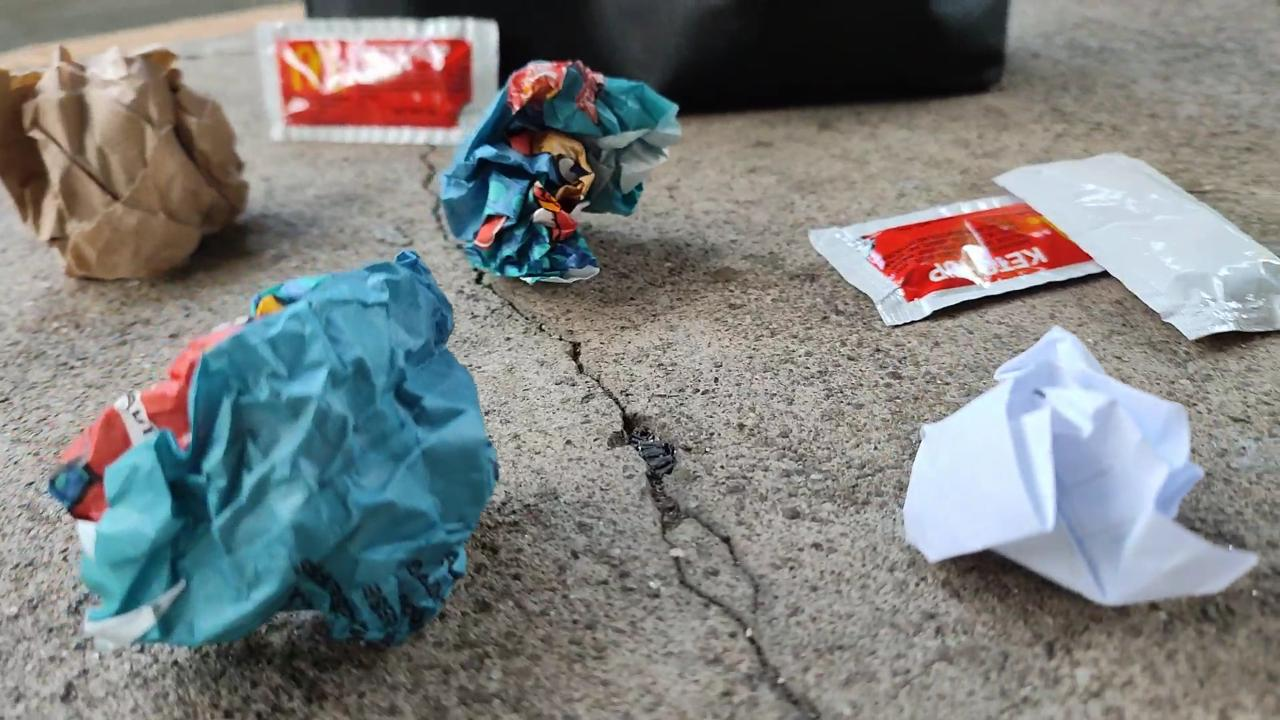paper: (49, 251, 496, 648), (904, 327, 1255, 604), (0, 48, 246, 278), (440, 61, 679, 281)
